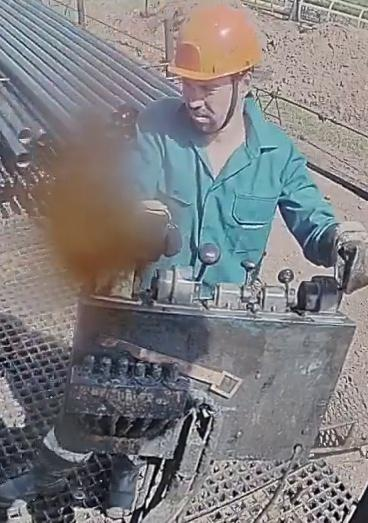gloves: (314, 217, 367, 295), (124, 199, 182, 264)
helmet: (167, 2, 263, 81)
vest: (123, 95, 293, 295)
